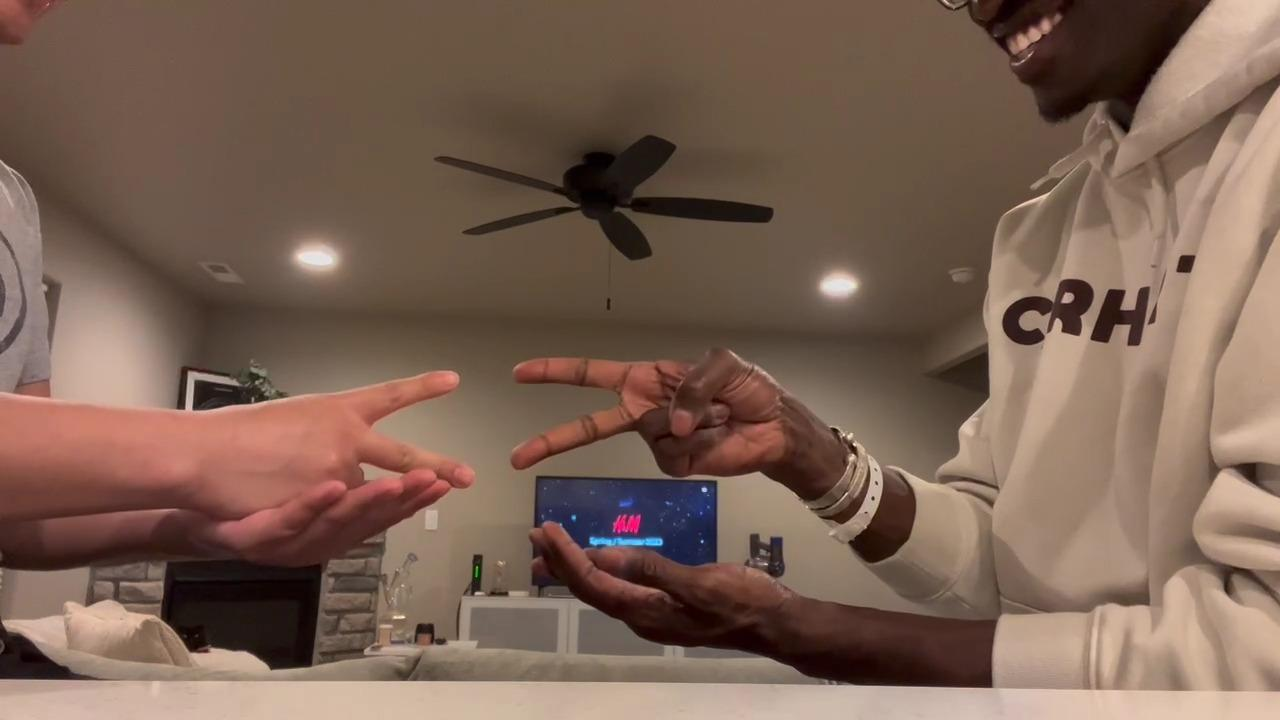Scissors: (202, 368, 473, 532), (508, 343, 781, 493)
